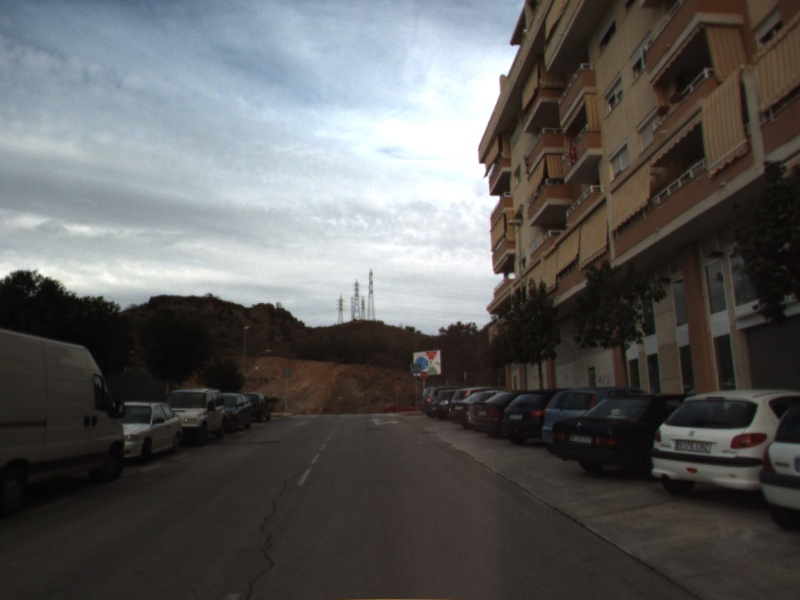STRAIGHT_RIGHT: (366, 415, 402, 427)
